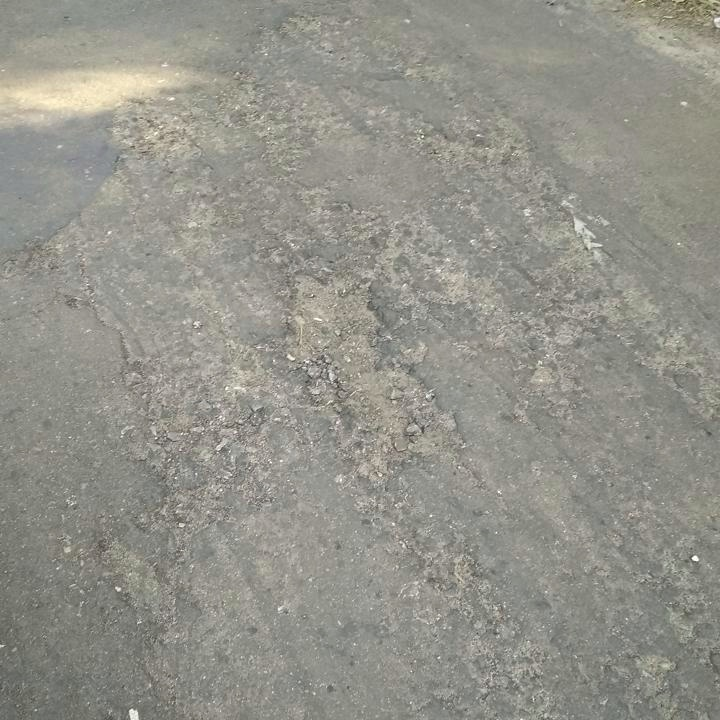pothole: (273, 261, 465, 472)
